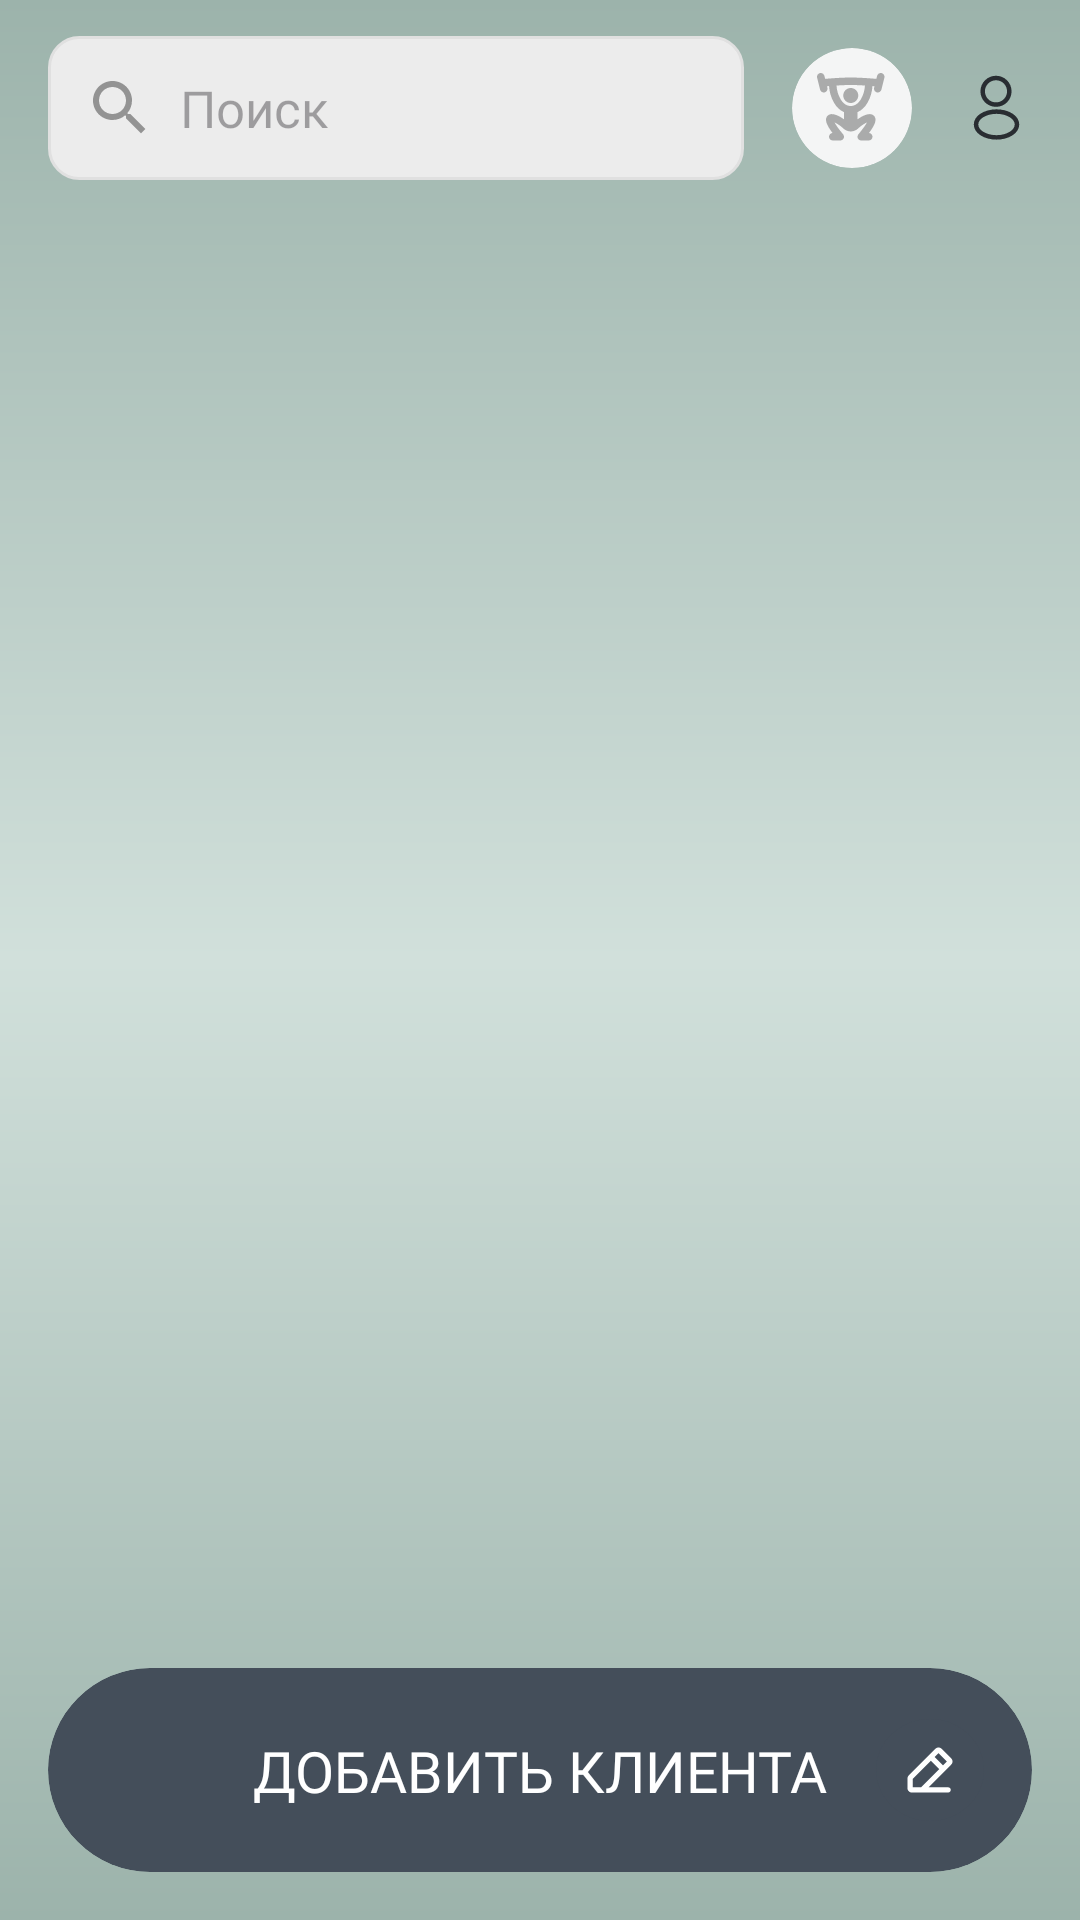

Where to tap for icons on this 1080 x 1920 app screen, as (x,y):
Профиль пользователя: (996,107)
Упражнения: (851,107)
